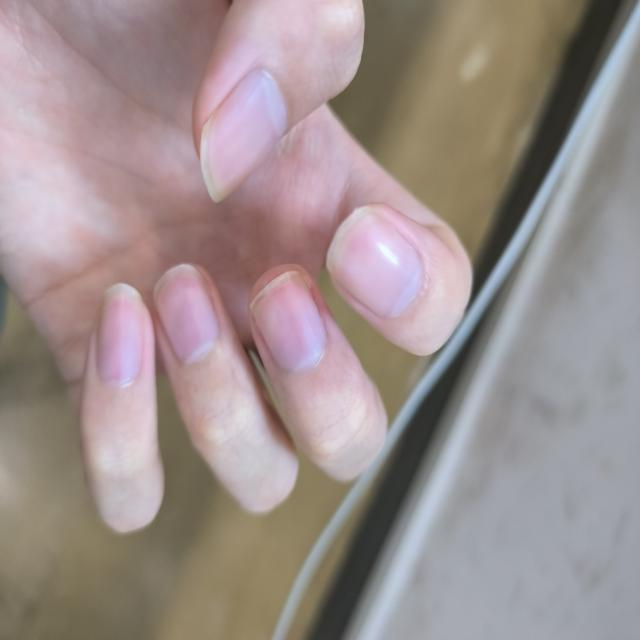Nail: (202, 71, 286, 202), (327, 209, 425, 320), (250, 271, 328, 371), (154, 265, 220, 362), (97, 284, 144, 386)
